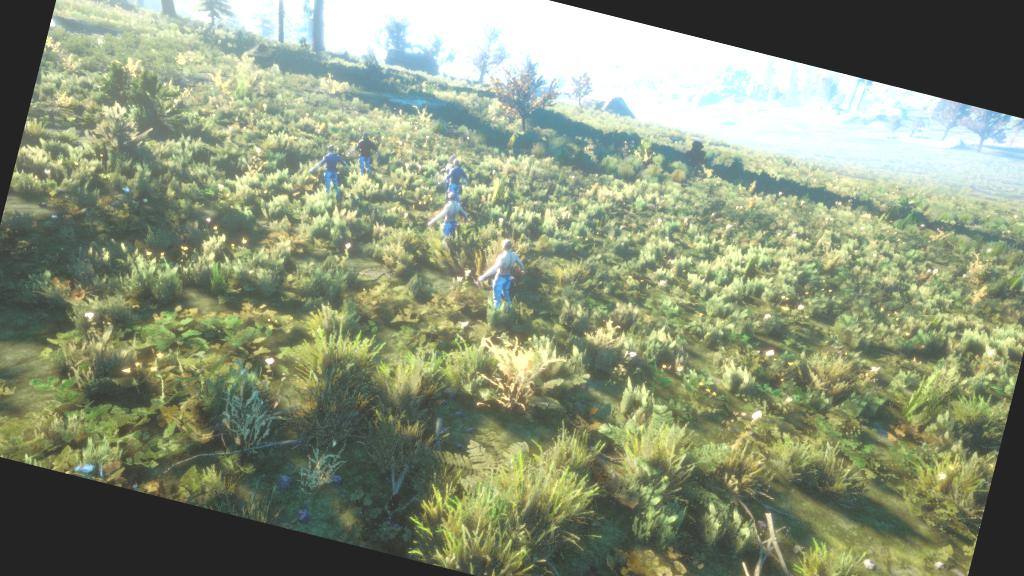human: (464, 227, 540, 319), (406, 184, 477, 264), (290, 132, 358, 208), (338, 117, 406, 189), (426, 144, 494, 202)
